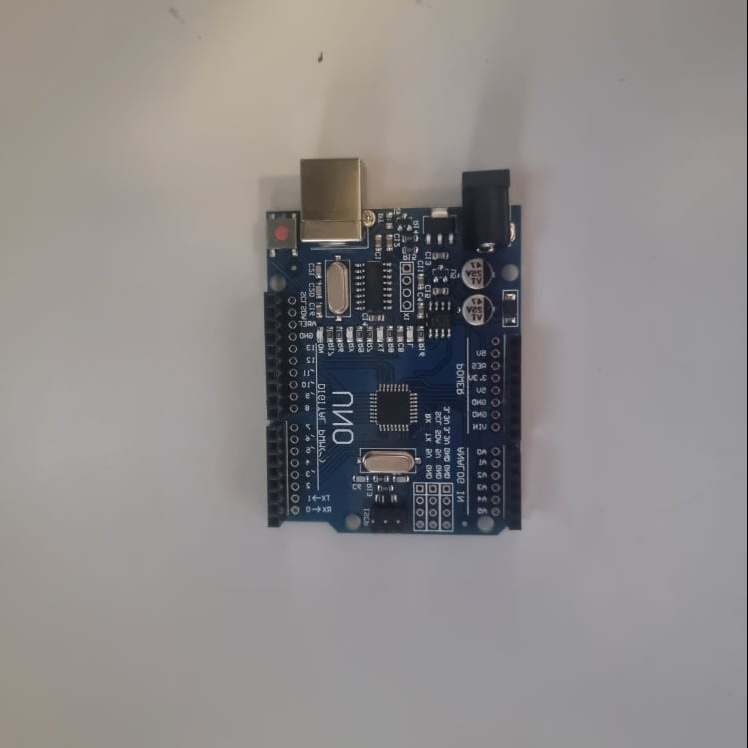UNO R3: (262, 158, 527, 540)
